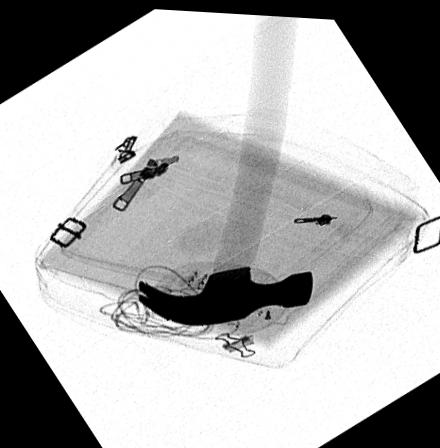Hammer: (136, 12, 312, 323)
